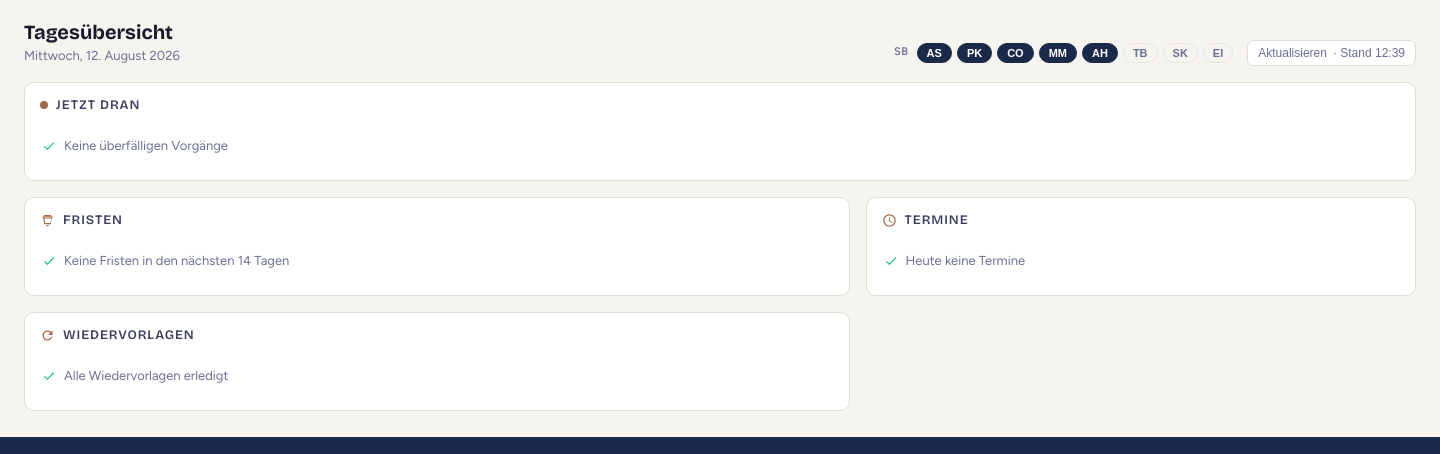
ActionBoardView › zeigt bei komplett abgewähltem SB-Filter einen Hinweis statt leerer Kacheln
Expected: the text "Keine Fristen in den nächsten 14 Tagen" is shown, [42,253,289,268]
Click the button "AS". click: x=934, y=52
box: [917,42,952,62]
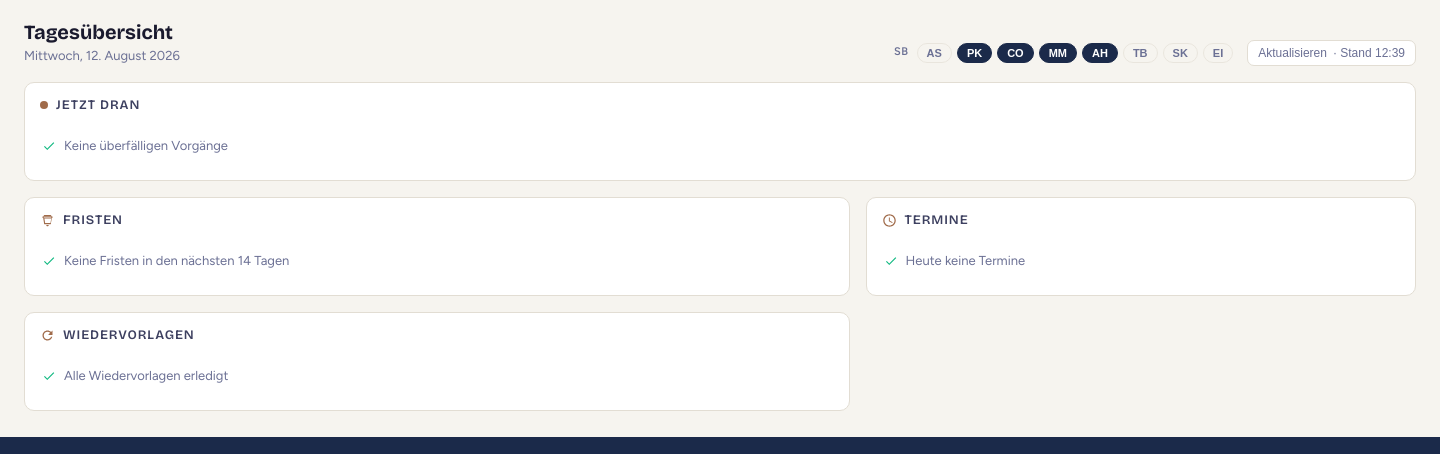
Click the button "PK". click: x=975, y=52
box: [957,42,992,62]
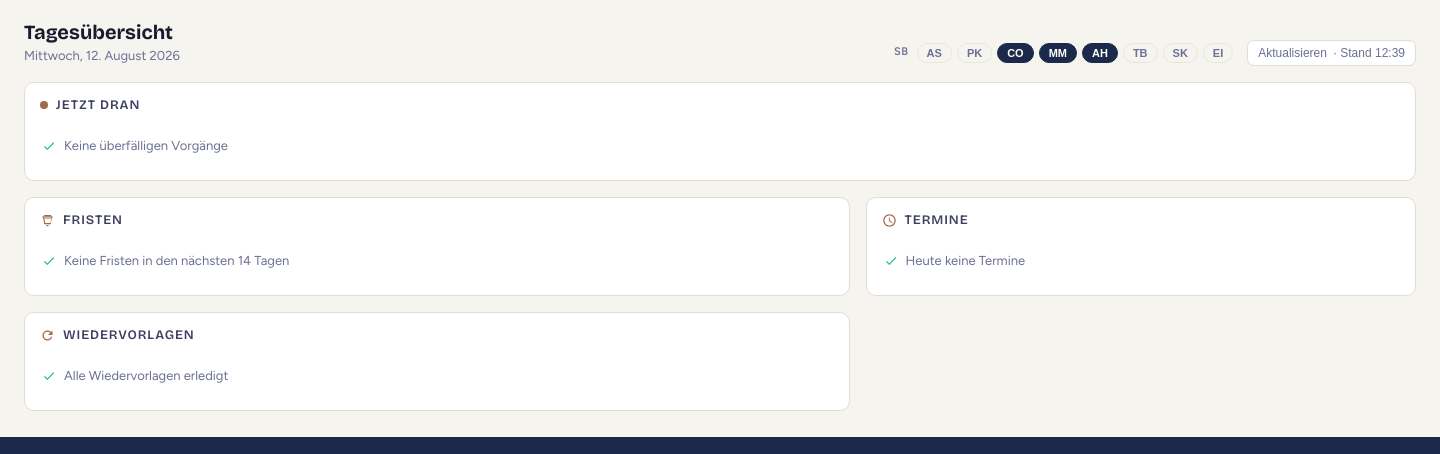
Click the button "CO". click: x=1015, y=52
box: [997,42,1034,62]
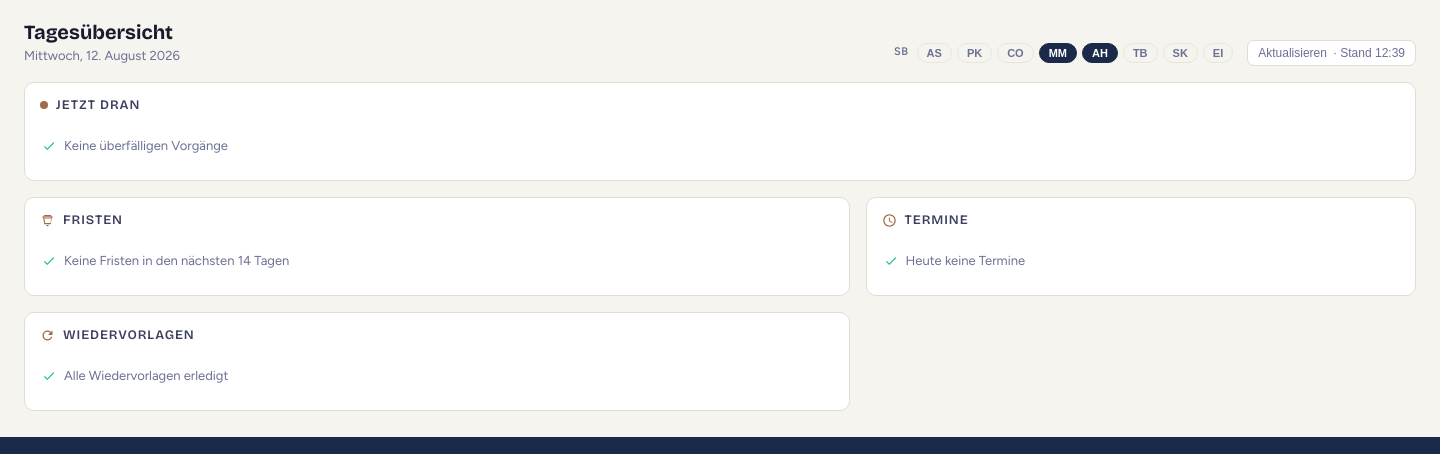
Click the button "MM". click: x=1058, y=52
box: [1039,42,1077,62]
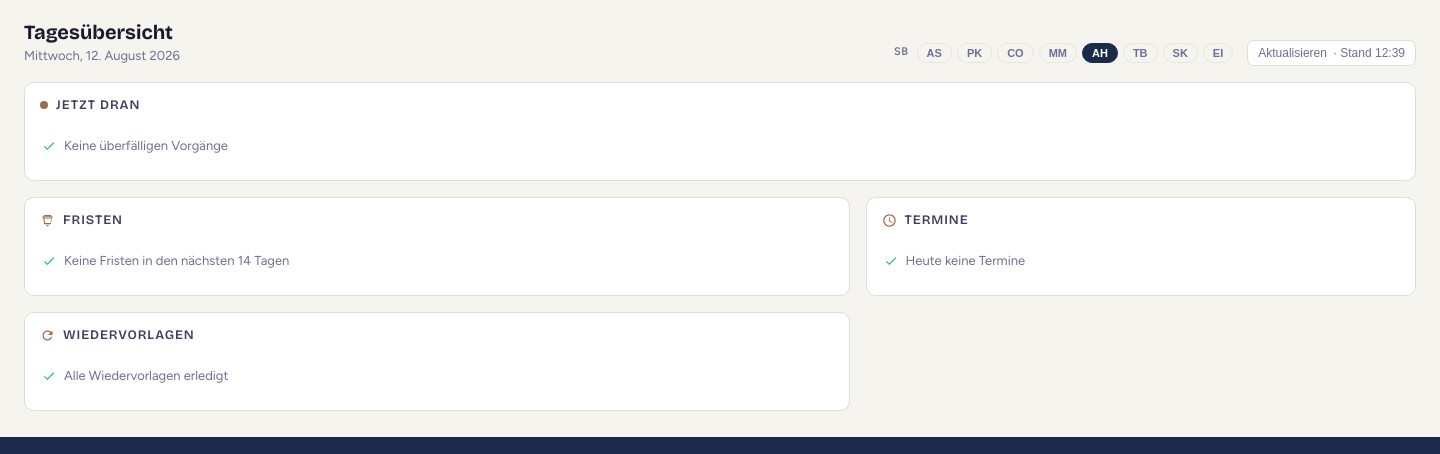
Click the button "AH". click: x=1100, y=52
box: [1082,42,1118,62]
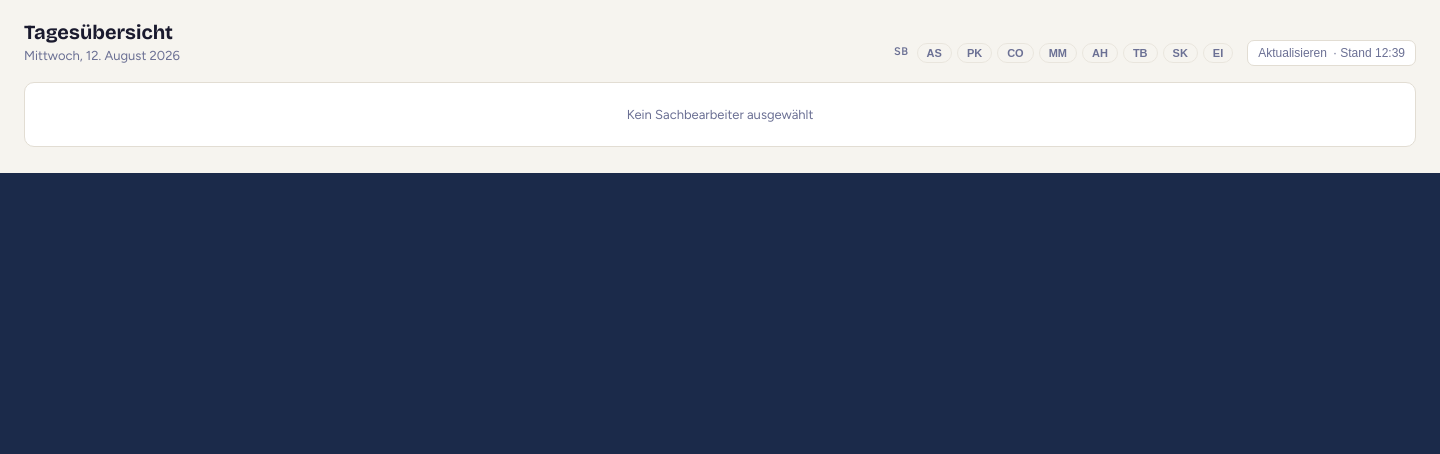
Expected: the text "Kein Sachbearbeiter ausgewählt" is shown, [24,82,1416,147]
Expected: the text "Keine Fristen in den nächsten" is gone
